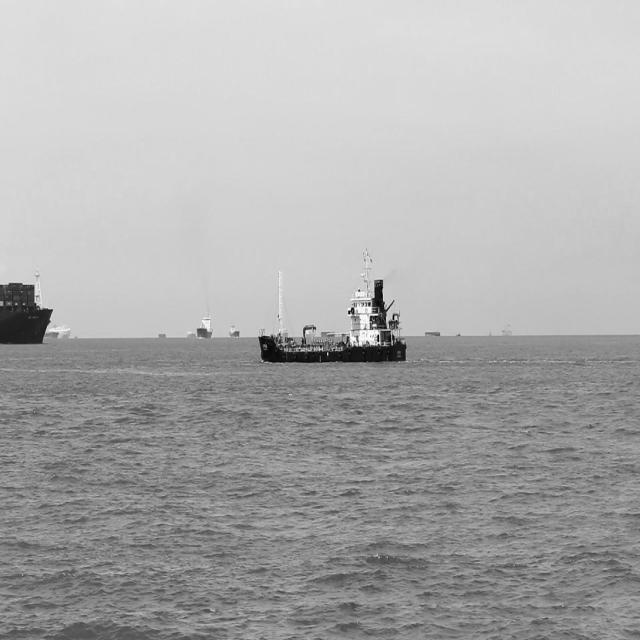ship: (259, 242, 413, 367), (1, 259, 52, 350), (43, 322, 74, 344), (197, 308, 215, 342), (227, 320, 242, 343), (424, 323, 442, 341), (500, 319, 515, 339), (156, 326, 170, 344), (185, 327, 197, 344)
